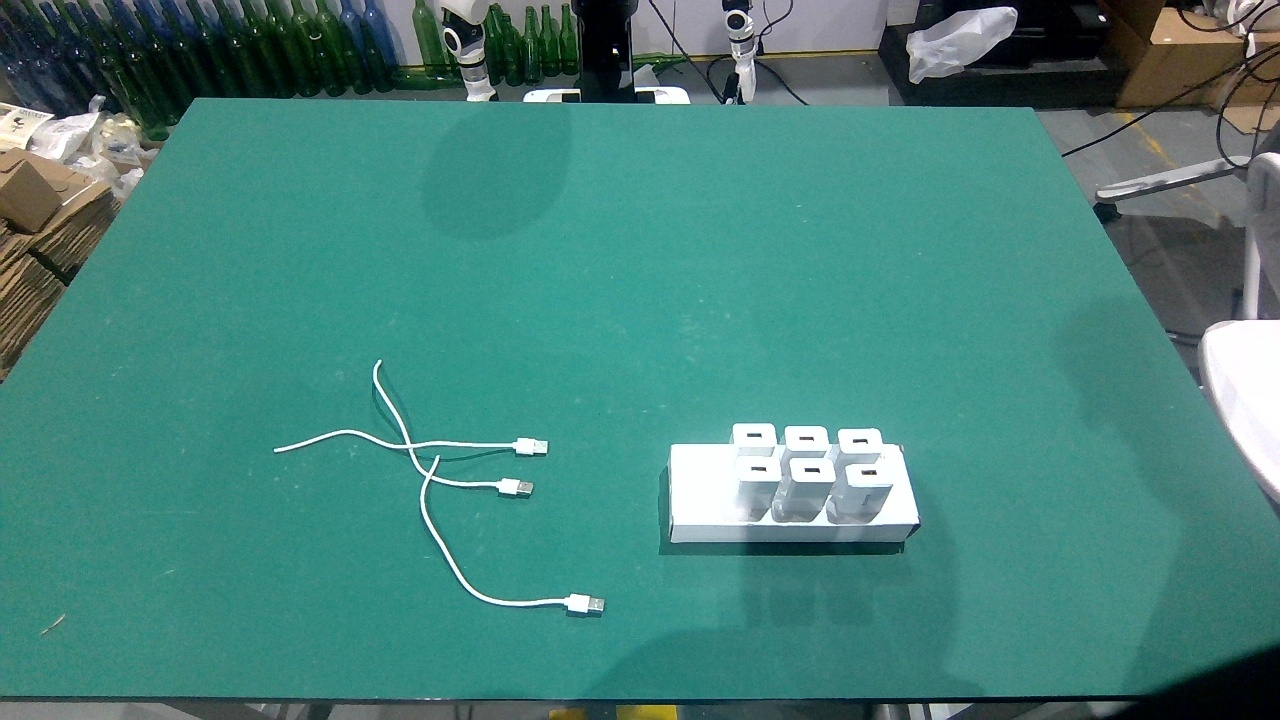usb_a_port: (857, 467, 880, 478), (849, 436, 871, 447), (744, 430, 765, 441), (802, 465, 821, 475), (797, 435, 818, 444), (749, 465, 768, 474)
